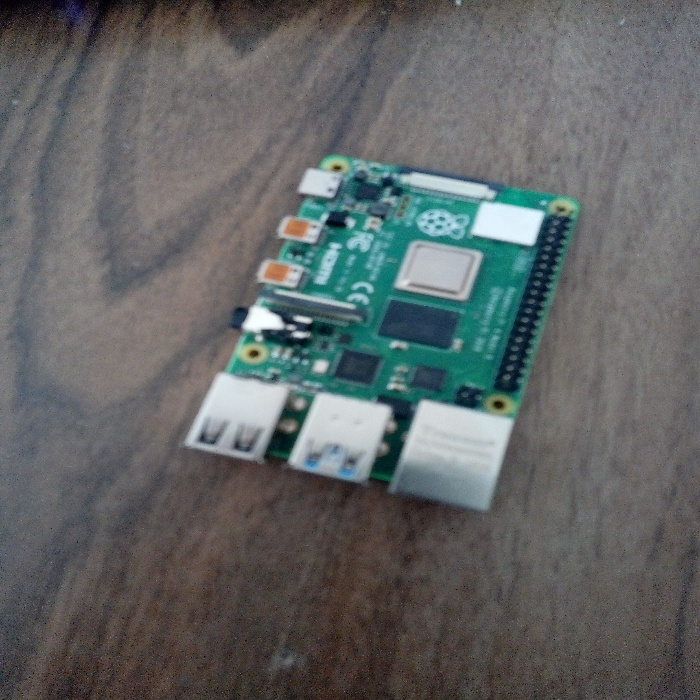raspberry: (174, 142, 579, 516)
